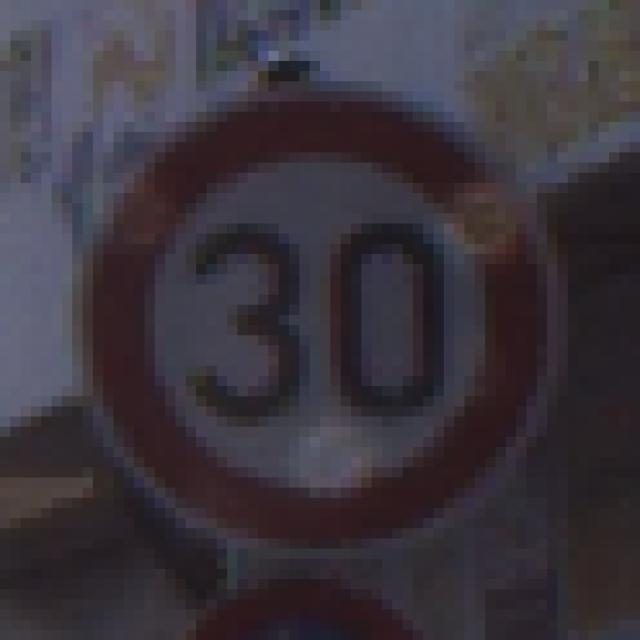Speed Limit -30-: (46, 56, 584, 584)
